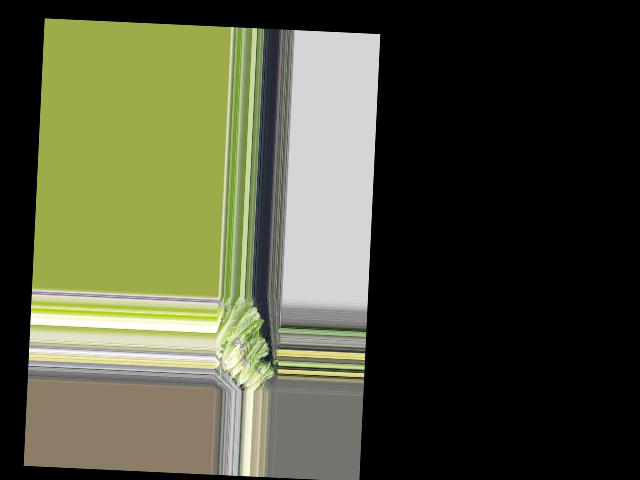lettuce: (217, 296, 258, 352)
